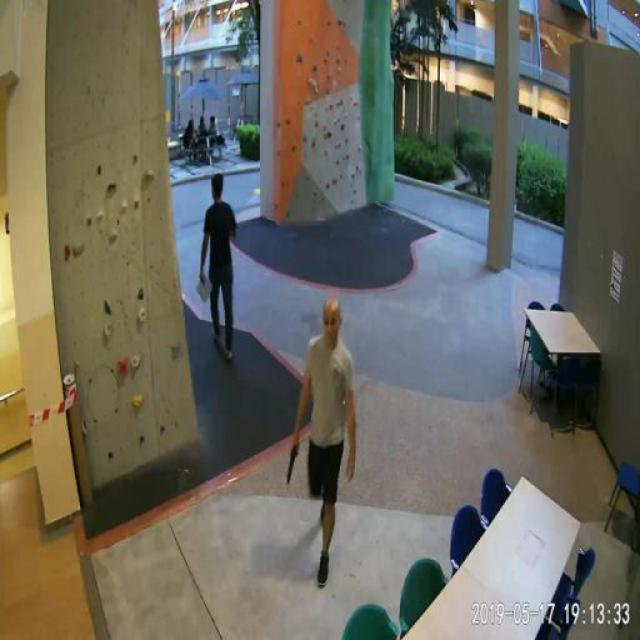pistol: (286, 438, 300, 480)
